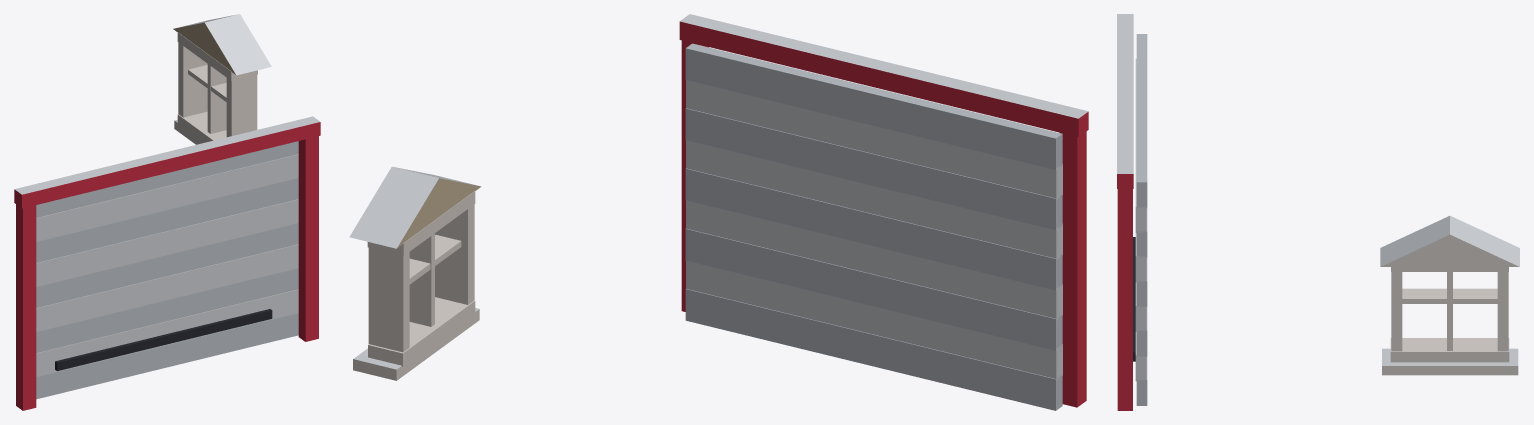
File: Garage_Door.glb
The picture shows the model from 3 angles, left to right: view 1: azimuth 30°, elevation 25°; view 2: azimuth 150°, elevation 25°; view 3: azimuth 270°, elevation 25°; orthographic projection. The views are drawn at different scales.
Parts seen in each view (by area): view 1: Garage_Door; view 2: Garage_Door; view 3: Garage_Door.
Part boxes in pixels (x1,y1,x2,y2): Garage_Door: [14, 14, 320, 410]; Garage_Door: [349, 14, 1088, 410]; Garage_Door: [1117, 14, 1519, 410].
Size of the model in its own units: 13.75 by 7.7 by 11.82.
